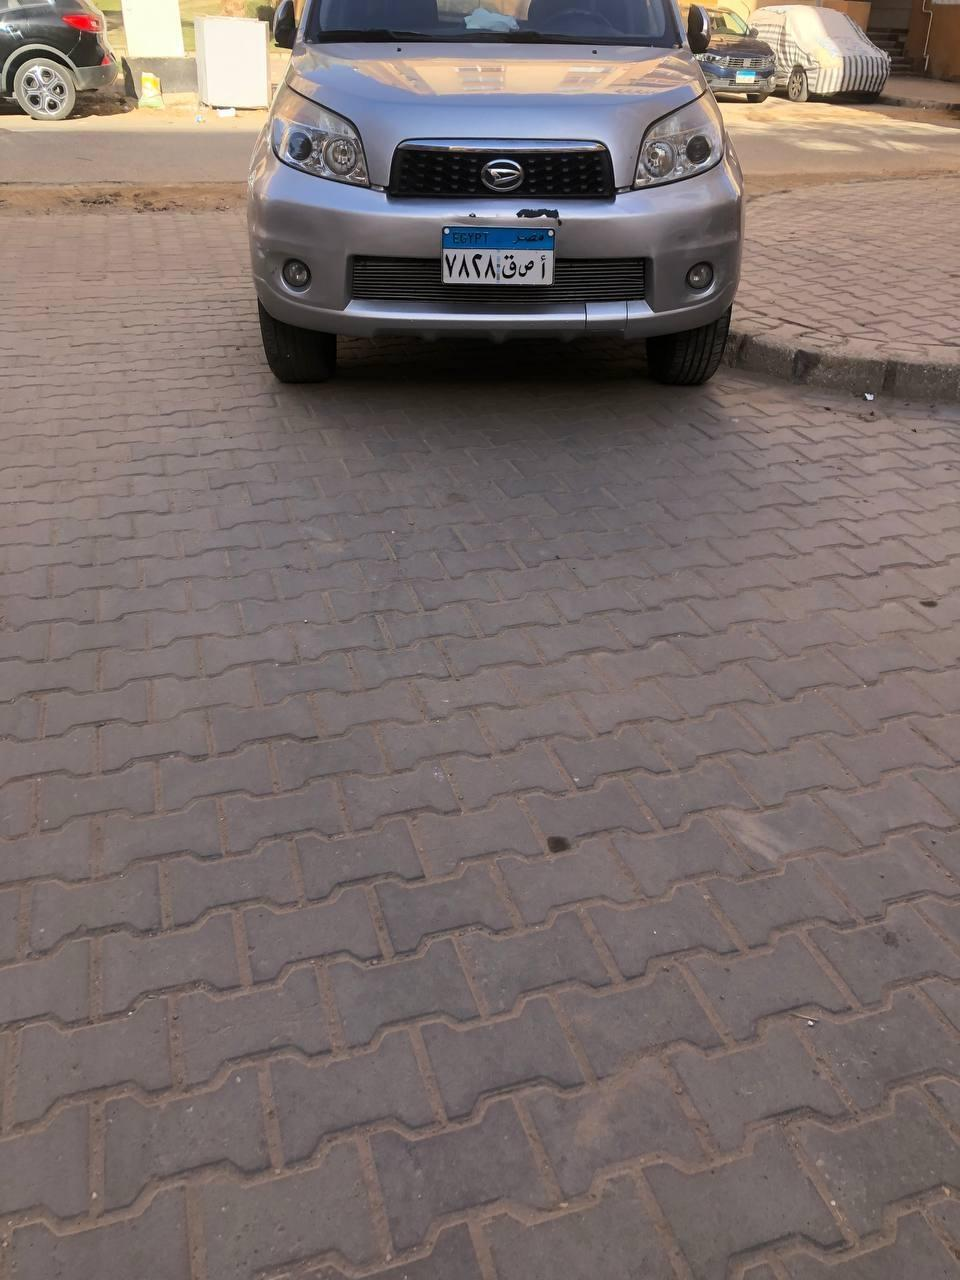2: (472, 251, 480, 279)
7: (444, 253, 458, 280)
8: (458, 252, 470, 280), (486, 254, 497, 280)
License Plate: (438, 223, 556, 287)
Q: (501, 250, 518, 280)
Saad: (518, 258, 535, 278)
alef: (538, 252, 554, 284)
